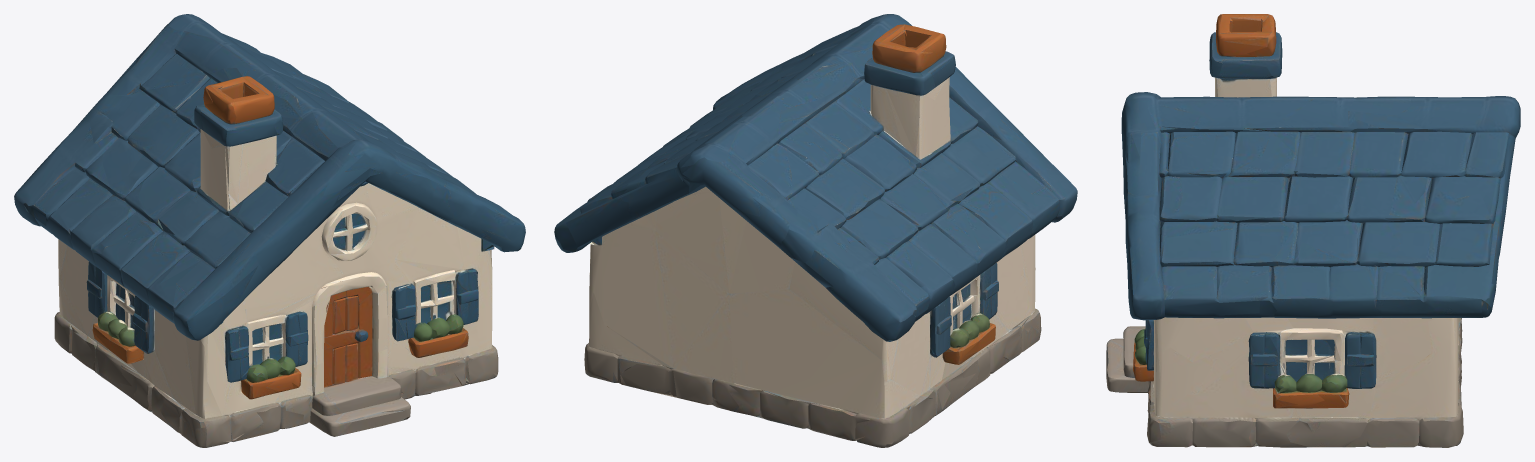
The model's file is common-buildings-small-family-house-compact-normal.glb.
3 renders of one model, left to right at view 1: azimuth 30°, elevation 25°; view 2: azimuth 150°, elevation 25°; view 3: azimuth 270°, elevation 25°, orthographic. The views are drawn at different scales.
Parts seen in each view (by area): view 1: Mesh_0; view 2: Mesh_0; view 3: Mesh_0.
Part boxes in pixels (bbox=[...]): Mesh_0: bbox=[14, 14, 525, 447]; Mesh_0: bbox=[554, 14, 1077, 447]; Mesh_0: bbox=[1106, 14, 1520, 447].
Size of the model in its own units: 2.97 by 2.53 by 3.
Materials: 1 (1 with a texture image).
